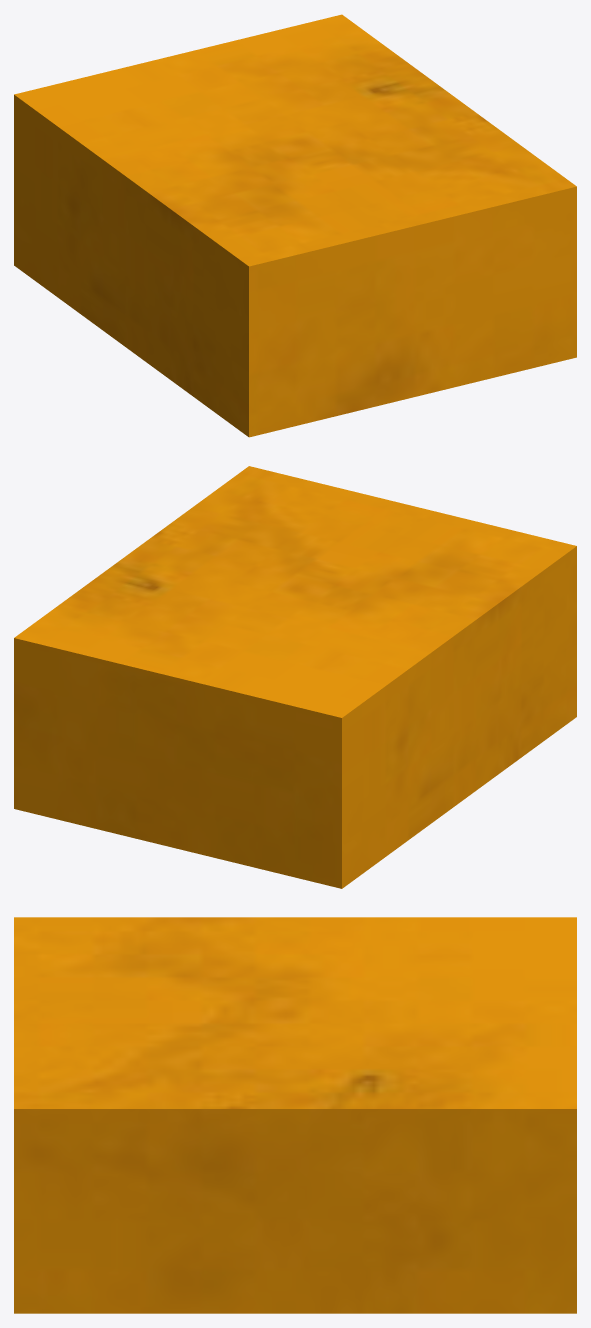
The model's file is trolley_rmqc.glb.
3 renders of one model, top to bottom at view 1: azimuth 30°, elevation 25°; view 2: azimuth 150°, elevation 25°; view 3: azimuth 270°, elevation 25°, orthographic. The views are drawn at different scales.
Parts seen in each view (by area): view 1: mesh3d_017, mesh3d_021, mesh3d_016; view 2: mesh3d_017, mesh3d_022, mesh3d_016; view 3: mesh3d_019, mesh3d_017.
Part boxes in pixels (x1,y1,x2,y2): mesh3d_017: (14, 14, 576, 266); mesh3d_021: (249, 186, 576, 437); mesh3d_016: (14, 95, 248, 436); mesh3d_017: (14, 466, 576, 717); mesh3d_022: (14, 638, 341, 888); mesh3d_016: (342, 546, 576, 888); mesh3d_019: (14, 1109, 576, 1313); mesh3d_017: (14, 917, 576, 1108).
Size of the model in its own units: 4.85 by 2.41 by 6.01.
1 material, 1 textured.
